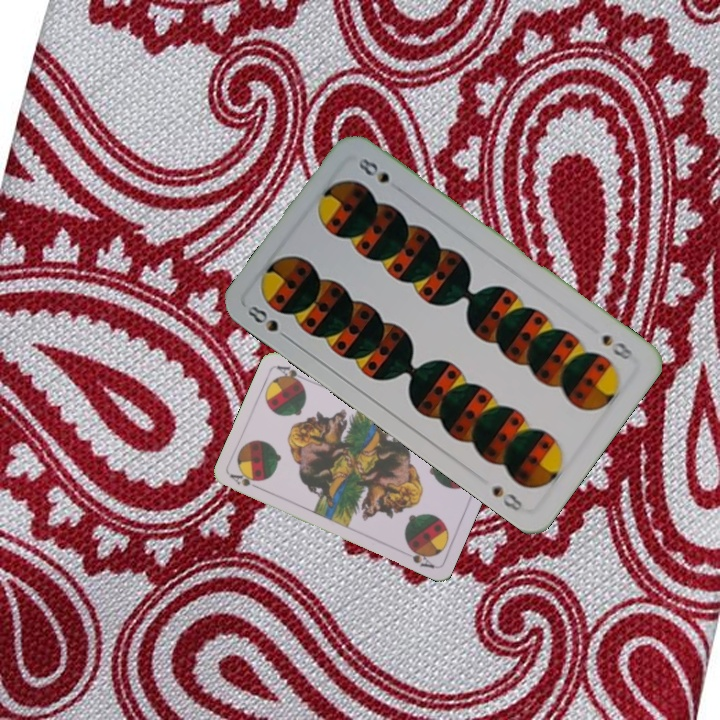S8: (243, 301, 294, 344), (597, 330, 636, 363)
SA: (226, 470, 265, 493)
